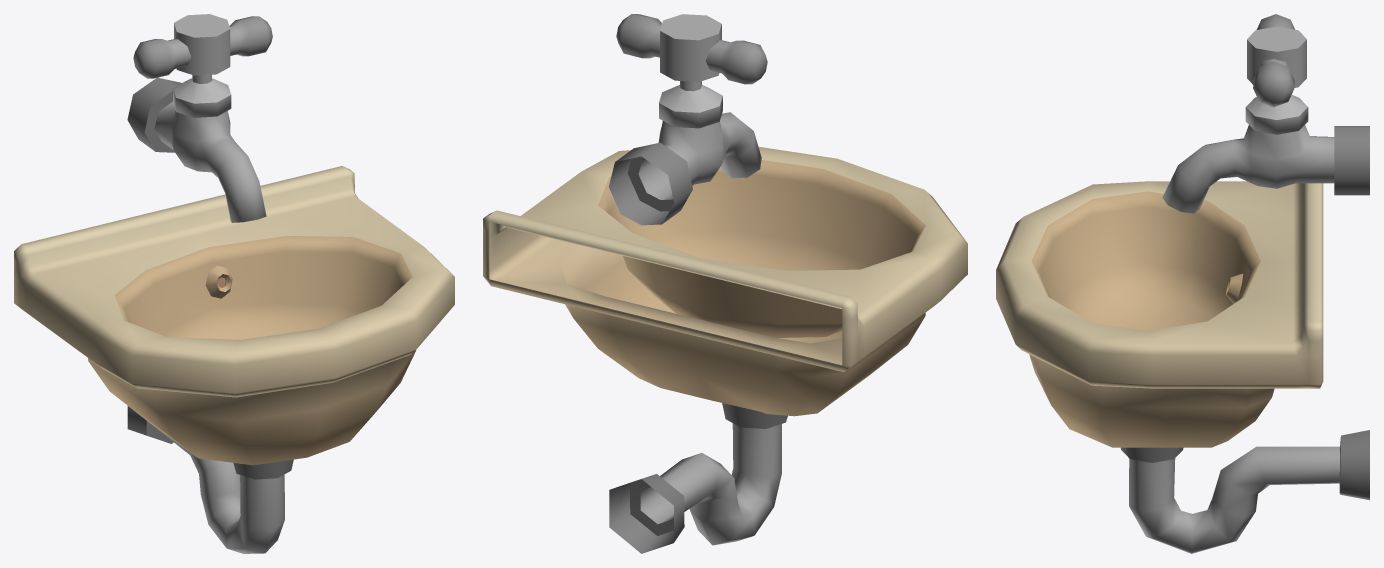
File: toilet_sink.fbx
3 renders of one model, left to right at view 1: azimuth 30°, elevation 25°; view 2: azimuth 150°, elevation 25°; view 3: azimuth 270°, elevation 25°, orthographic. The views are drawn at different scales.
Parts seen in each view (by area): view 1: toilet_sink; view 2: toilet_sink; view 3: toilet_sink.
Part boxes in pixels (<box>): toilet_sink: <box>14,14,454,553</box>; toilet_sink: <box>483,14,967,553</box>; toilet_sink: <box>996,14,1369,553</box>.
Bounding box in the file's own units: 0.7886 × 1.12 × 0.7366.
